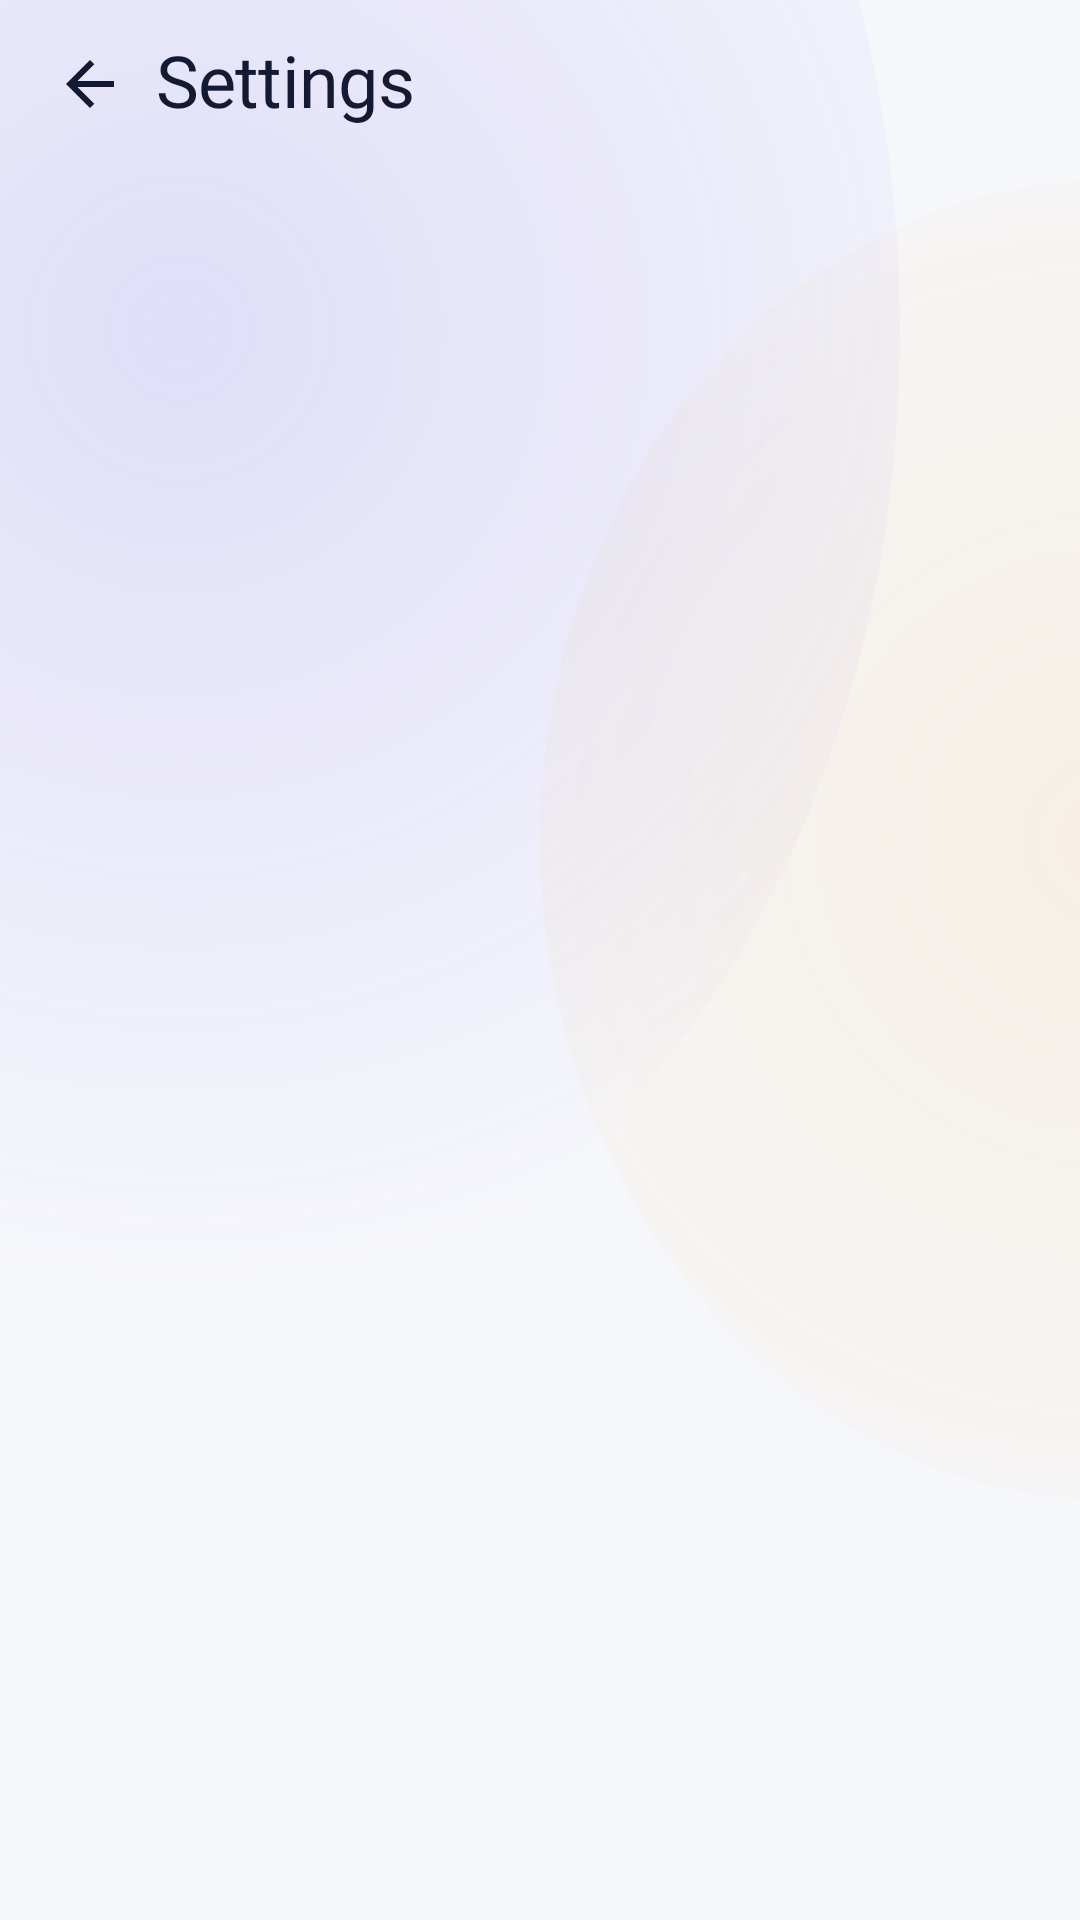

Named icons in this screenshot (1080×1920) and their bounding boxes, bbox(x1, y1, x2, y2):
arrow back: bbox(66, 60, 114, 108)
